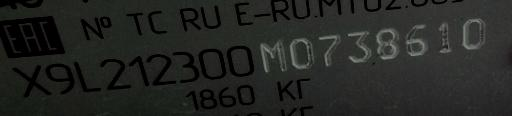letter: (12, 62, 54, 97), (192, 44, 228, 82), (400, 19, 434, 59), (256, 37, 290, 77), (146, 49, 178, 88), (343, 28, 375, 65), (100, 54, 132, 90), (72, 56, 104, 92), (288, 34, 318, 72), (460, 16, 490, 53), (46, 59, 76, 96), (316, 31, 344, 69), (227, 41, 255, 79), (172, 46, 200, 84), (128, 51, 156, 88), (375, 25, 401, 62), (434, 20, 458, 57)
